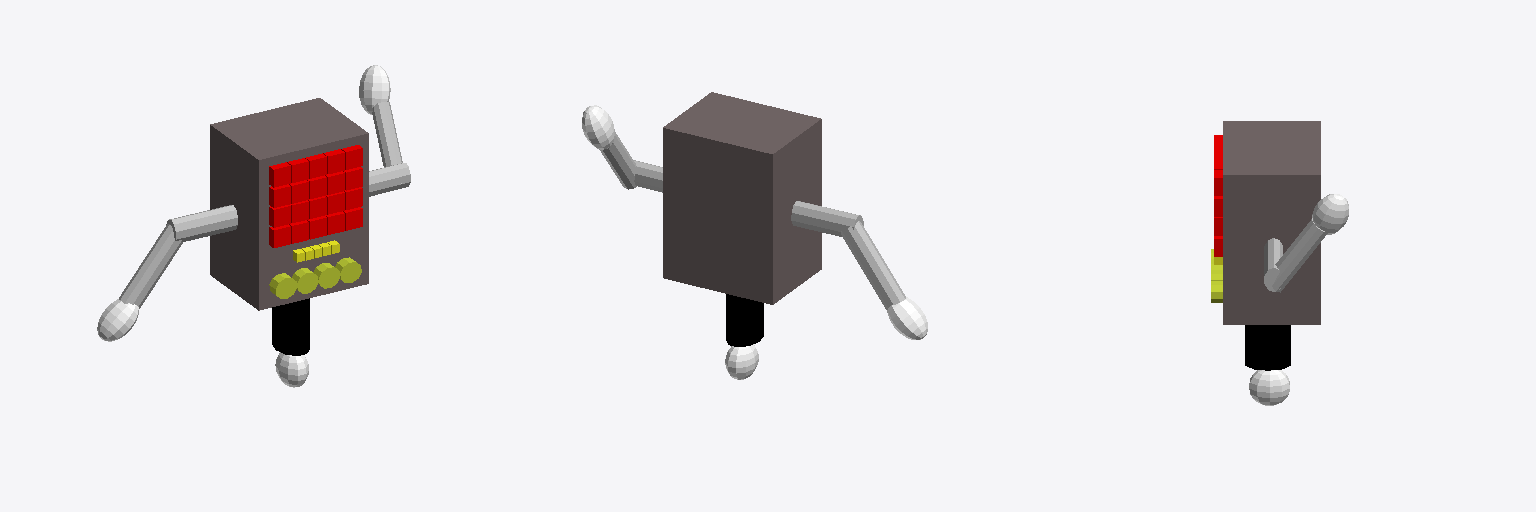
The model's file is meta6.obj.
The picture shows the model from 3 angles: view 1: azimuth 30°, elevation 25°; view 2: azimuth 150°, elevation 25°; view 3: azimuth 270°, elevation 25°; orthographic projection.
Visible parts, largest first — view 1: 037_Box, 002_Cylinder_8, 007_Cylinder_4_-_baked, 001_Cylinder_7, 000_Cylinder_6, 003_Sphere_2, 005_Sphere_1, 004_Cylinder_5, 006_Sphere, 010_Cylinder_1; view 2: 037_Box, 002_Cylinder_8, 007_Cylinder_4_-_baked, 001_Cylinder_7, 003_Sphere_2, 005_Sphere_1, 000_Cylinder_6, 006_Sphere, 004_Cylinder_5; view 3: 037_Box, 007_Cylinder_4_-_baked, 000_Cylinder_6, 006_Sphere, 005_Sphere_1, 004_Cylinder_5.
Boxes of the visible parts, <box> form: 037_Box: <box>210,98,368,310</box>; 002_Cylinder_8: <box>119,224,182,308</box>; 007_Cylinder_4_-_baked: <box>272,298,309,355</box>; 001_Cylinder_7: <box>166,205,237,241</box>; 000_Cylinder_6: <box>372,102,402,183</box>; 003_Sphere_2: <box>97,299,138,341</box>; 005_Sphere_1: <box>359,65,390,114</box>; 004_Cylinder_5: <box>369,163,410,196</box>; 006_Sphere: <box>275,352,308,387</box>; 010_Cylinder_1: <box>269,273,296,298</box>; 037_Box: <box>663,92,821,304</box>; 002_Cylinder_8: <box>841,221,905,309</box>; 007_Cylinder_4_-_baked: <box>726,294,763,346</box>; 001_Cylinder_7: <box>791,201,863,236</box>; 003_Sphere_2: <box>887,297,927,339</box>; 005_Sphere_1: <box>582,105,614,149</box>; 000_Cylinder_6: <box>599,132,636,189</box>; 006_Sphere: <box>725,344,758,379</box>; 004_Cylinder_5: <box>634,160,662,192</box>; 037_Box: <box>1223,121,1320,324</box>; 007_Cylinder_4_-_baked: <box>1245,325,1290,370</box>; 000_Cylinder_6: <box>1272,218,1327,292</box>; 006_Sphere: <box>1249,370,1289,405</box>; 005_Sphere_1: <box>1312,194,1348,234</box>; 004_Cylinder_5: <box>1264,238,1282,291</box>.
Bounding box in the file's own units: 60.2 × 48.89 × 22.94.